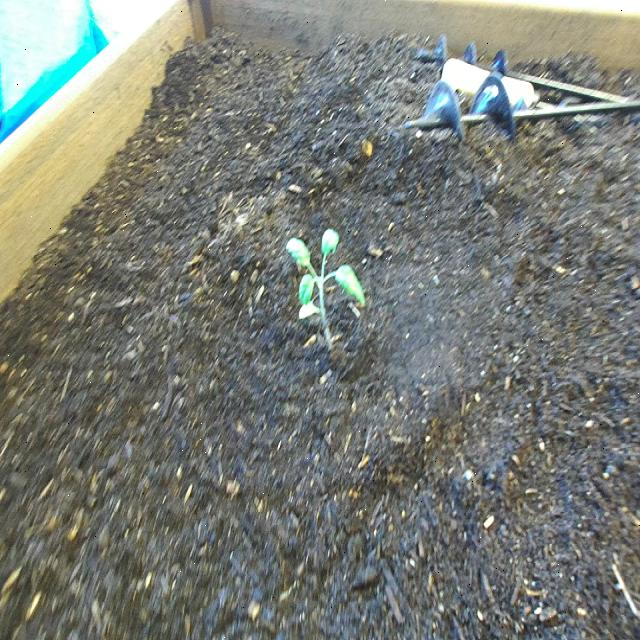Healthy: (285, 225, 369, 362)
